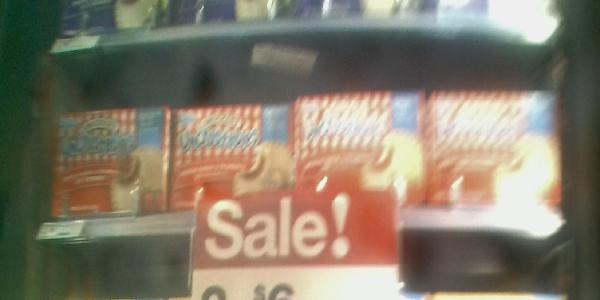icecream: (429, 87, 575, 218), (298, 90, 426, 209), (48, 104, 172, 216), (174, 102, 295, 216)
